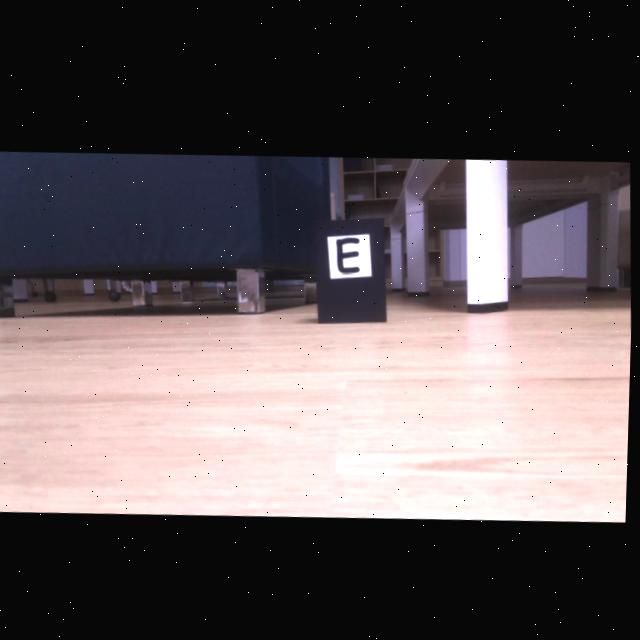E: (337, 234, 361, 269)
